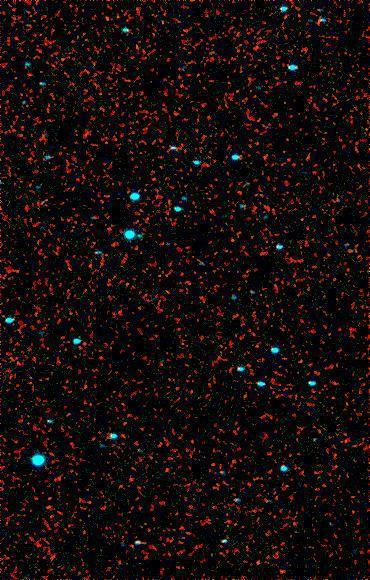star: (243, 548, 273, 578)
